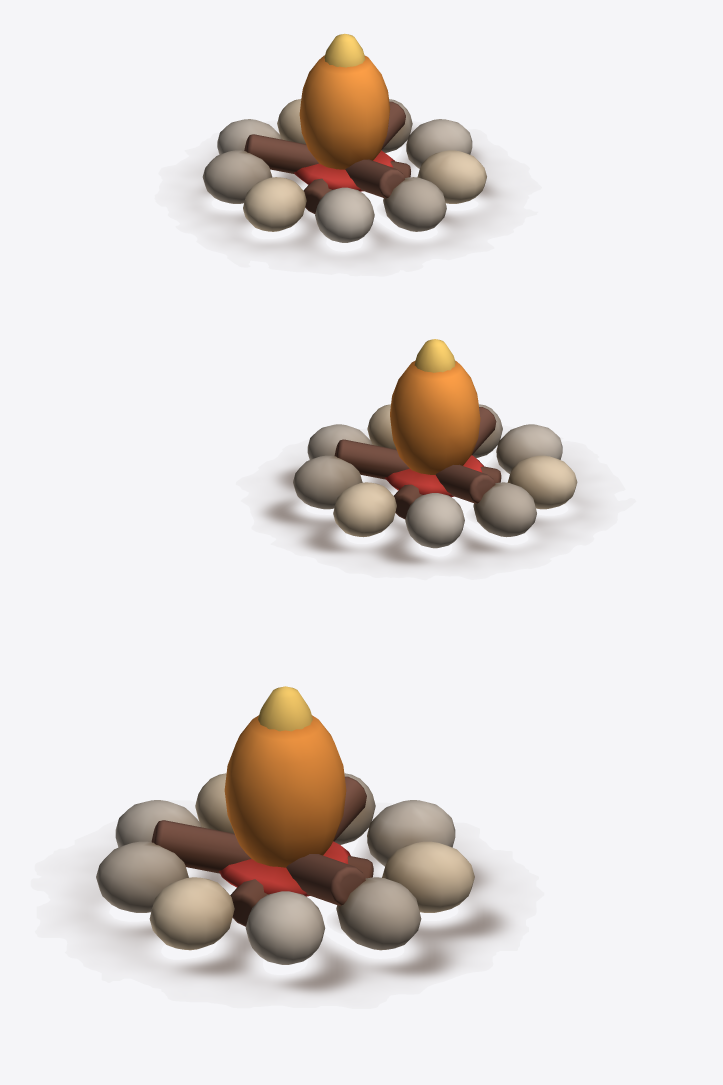
The model's file is prop_campfire.glb.
3 views of the same model, one above another, from view 1: azimuth 30°, elevation 25°; view 2: azimuth 150°, elevation 25°; view 3: azimuth 270°, elevation 25° (orthographic). The views are drawn at different scales.
Parts seen in each view (by area): view 1: flame_o, baked_shadow, stone5, stone7, stone6, stone8, stone4, stone0, log1, log2, stone3, ember (+4 smaller); view 2: flame_o, baked_shadow, stone2, stone4, stone5, stone3, stone1, stone6, log0, log1, stone0, ember (+4 smaller); view 3: flame_o, baked_shadow, stone8, stone1, stone0, stone2, stone7, stone3, log2, log0, stone6, ember (+4 smaller).
Part boxes in pixels (x1,y1,x2,y2): flame_o: (299,55,390,169); baked_shadow: (196,127,499,252); stone5: (243,177,306,231); stone7: (383,177,446,231); stone6: (315,187,374,242); stone8: (417,150,486,203); stone4: (202,150,272,203); stone0: (406,119,472,168); log1: (244,134,410,177); log2: (345,159,404,198); stone3: (217,119,281,154); ember: (294,150,394,191); flame_o: (390,360,480,474); baked_shadow: (261,462,587,566); stone2: (333,482,396,537); stone4: (473,482,536,537); stone5: (507,455,577,509); stone3: (405,493,464,548); stone1: (293,455,362,509); stone6: (496,424,562,473); log0: (334,439,501,483); log1: (436,464,495,503); stone0: (307,424,372,459); ember: (385,455,483,497); flame_o: (224,715,346,867); baked_shadow: (86,845,508,993); stone8: (149,877,234,950); stone1: (336,877,421,950); stone0: (245,891,325,964); stone2: (382,841,474,912); stone7: (96,841,188,912); stone3: (367,800,455,866); log2: (151,820,373,878); log0: (286,854,365,905); stone6: (115,800,201,847); ember: (219,841,350,896).
Bounding box in the file's own units: 2.85 × 1.01 × 2.97.
Materials: 8 (1 with a texture image).
